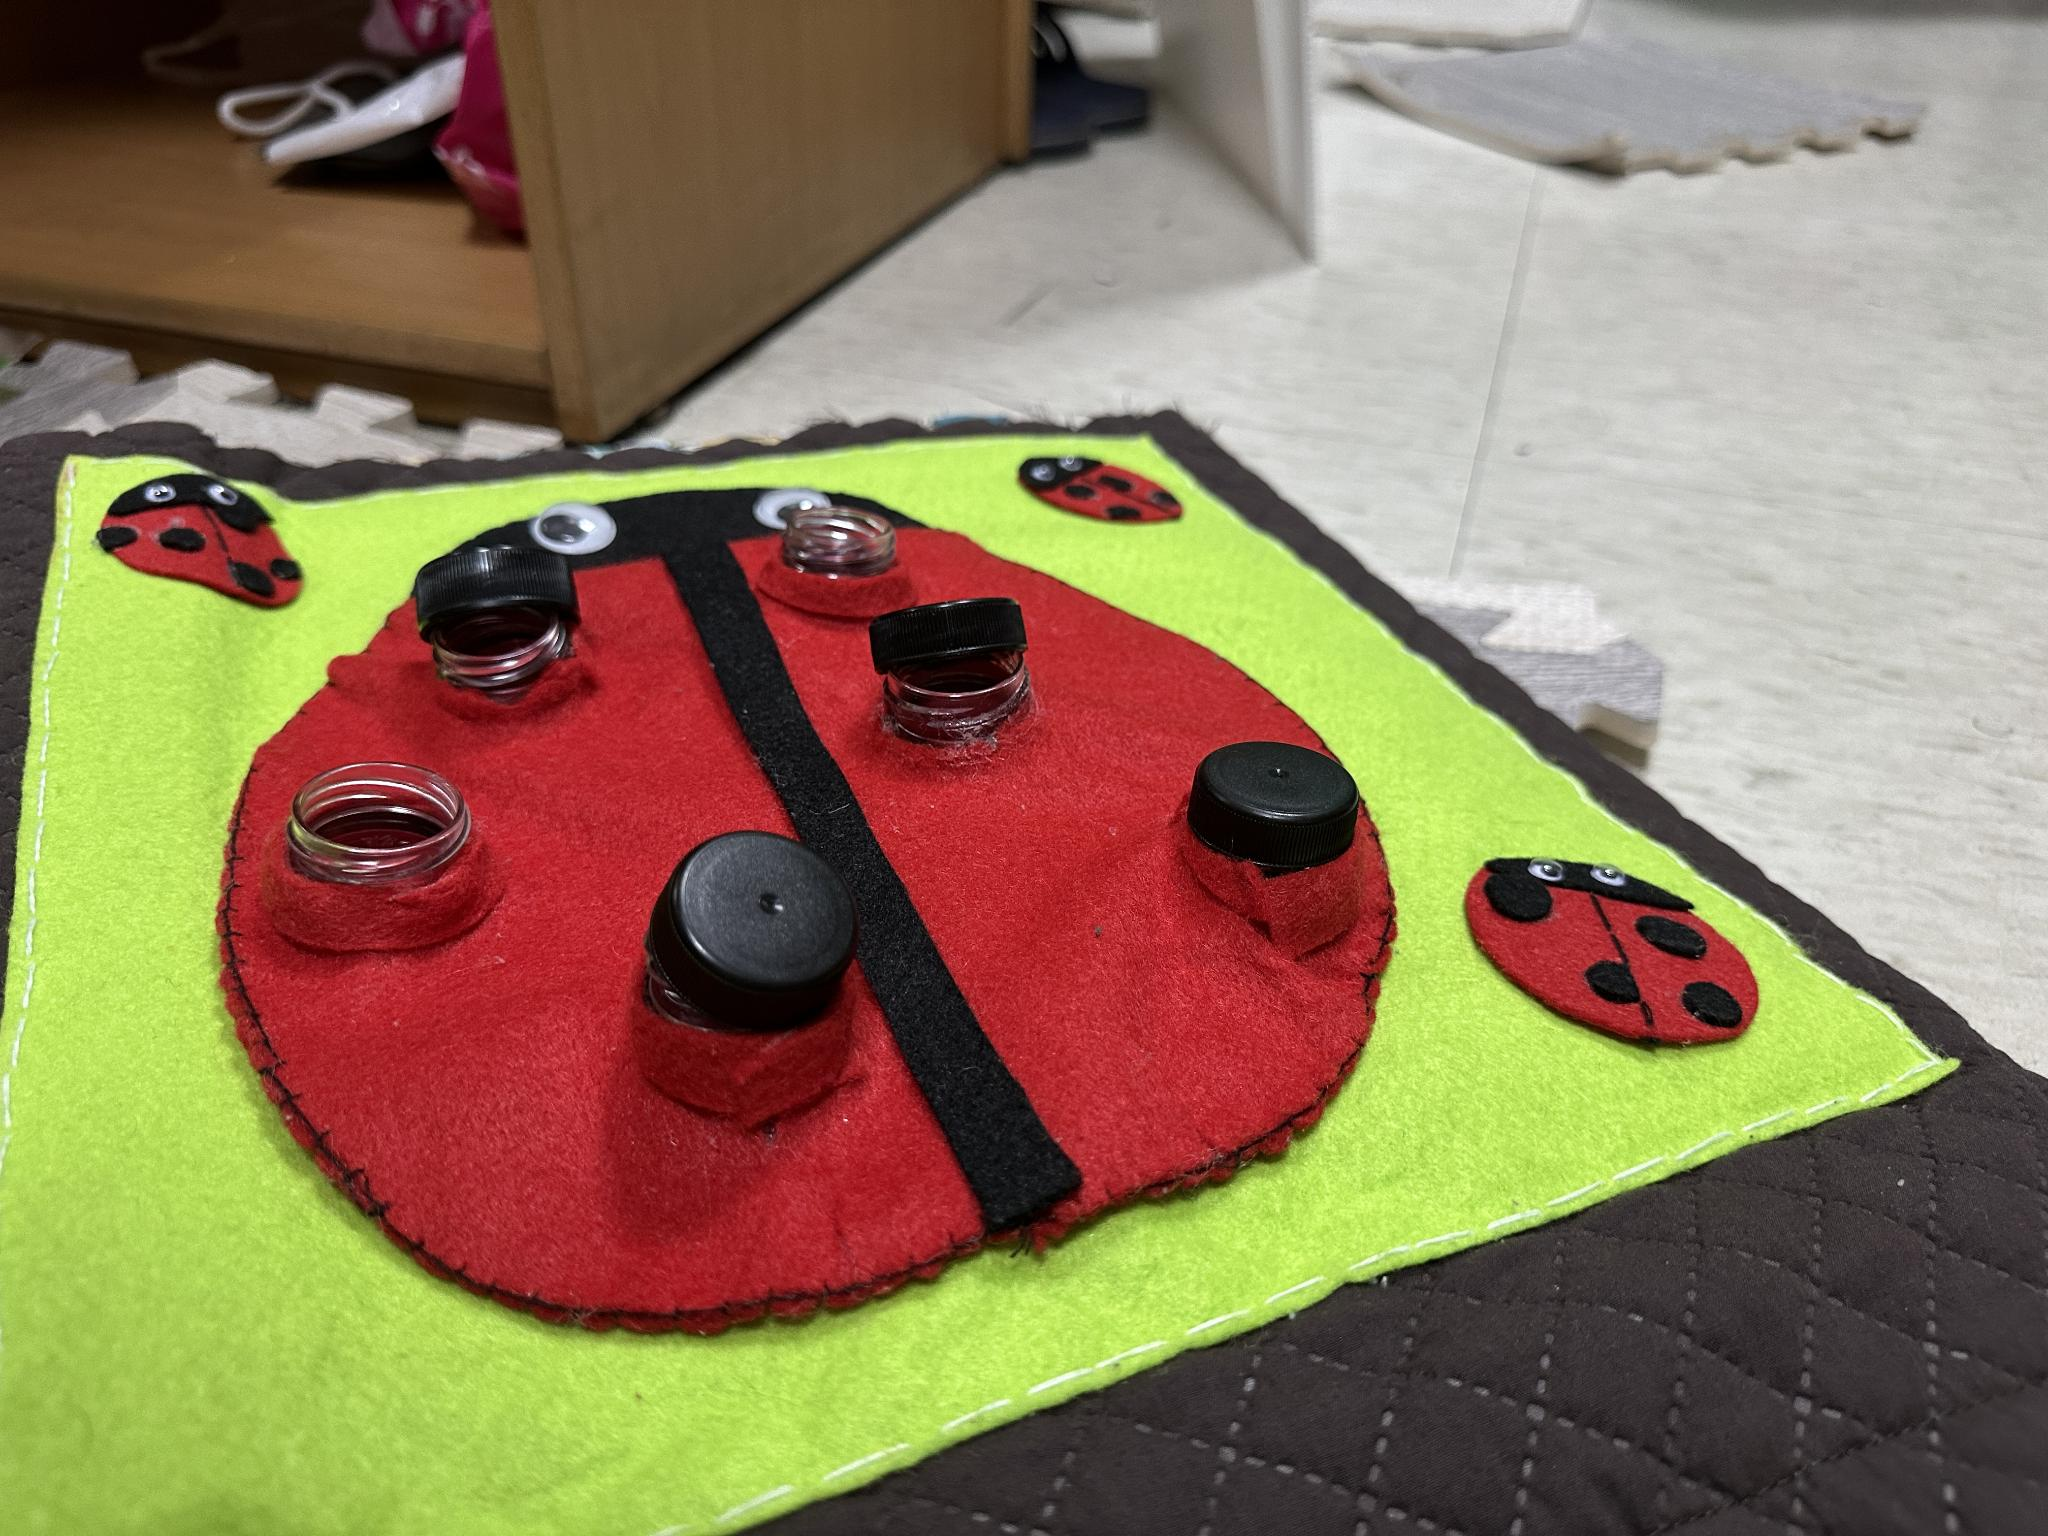cap_ng: (595, 818, 877, 1141), (389, 529, 601, 729), (839, 592, 1050, 783)
cap_ok: (1161, 720, 1371, 984)
